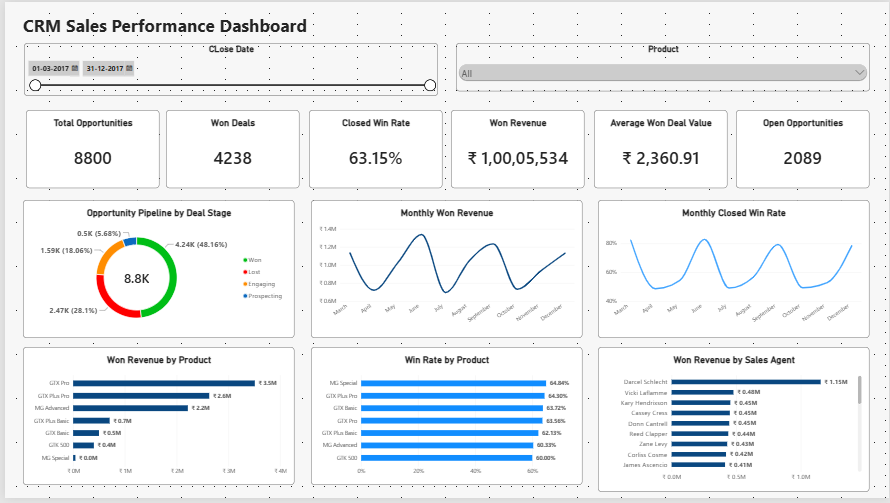

What the dashboard file says about the page in this screenshot:
{"tool":"powerbi","page":{"name":"Executive Overview","canvas":[1920,1080],"ordinal":0},"visuals":[{"type":"card","title":"Total Opportunities","fields":{"Values":["crm_sales sales_pipeline.Total Opportunities"]},"box":[44.7,235,290,170],"z":0},{"type":"card","title":"Won Deals","fields":{"Values":["CountNonNull(crm_sales sales_pipeline.opportunity_id)"]},"box":[350,235,290,170],"z":1000},{"type":"card","title":"Closed Win Rate","fields":{"Values":["crm_sales sales_pipeline.Closed Win Rate"]},"box":[660,235,290,170],"z":1001},{"type":"card","title":"Won Revenue","fields":{"Values":["crm_sales sales_pipeline.Won Revenue"]},"box":[970,235,290,170],"z":1002},{"type":"card","title":"Average Won Deal Value","fields":{"Values":["crm_sales sales_pipeline.Average Won Deal Value"]},"box":[1280,235,290,170],"z":1003},{"type":"donutChart","title":"Opportunity Pipeline by Deal Stage","fields":{"Category":["crm_sales sales_pipeline.deal_stage"],"Y":["CountNonNull(crm_sales sales_pipeline.opportunity_id)"]},"box":[40,430,590,300],"z":1005},{"type":"lineChart","title":"Monthly Won Revenue","fields":{"Category":["crm_sales sales_pipeline.close_date.Variation.Date Hierarchy.Month"],"Y":["Sum(crm_sales sales_pipeline.close_value)"]},"box":[665,430,590,300],"z":1006},{"type":"lineChart","title":"Monthly Closed Win Rate","fields":{"Category":["crm_sales sales_pipeline.close_date.Variation.Date Hierarchy.Month"],"Y":["crm_sales sales_pipeline.Closed Win Rate"]},"box":[1290,430,590,300],"z":1007},{"type":"clusteredBarChart","title":"Won Revenue by Product","fields":{"Category":["crm_sales products.product"],"Y":["crm_sales sales_pipeline.Won Revenue"]},"box":[40,750,590,300],"z":1008},{"type":"clusteredBarChart","title":"Win Rate by Product","fields":{"Category":["crm_sales products.product"],"Y":["crm_sales sales_pipeline.Product Win Rate"]},"box":[665,750,590,300],"z":1009},{"type":"clusteredBarChart","title":"Won Revenue by Sales Agent","fields":{"Category":["crm_sales sales_teams.sales_agent"],"Y":["crm_sales sales_pipeline.Won Revenue"]},"box":[1290,750,590,315],"z":1010},{"type":"slicer","title":"CLose Date","fields":{"Values":["crm_sales sales_pipeline.close_date"]},"box":[40.4,90,900,115],"z":1011},{"type":"slicer","title":"Product","fields":{"Values":["crm_sales products.product"]},"box":[980,90,900,105],"z":1012},{"type":"card","title":"Open Opportunities","fields":{"Values":["crm_sales sales_pipeline.Open Opportunities"]},"box":[1590,235,290,170],"z":1013},{"type":"textbox","box":[40,25,1839,50],"z":1014}]}

Visuals, with their boxes in screenshot pixels (x1, y1, x2, y2), scaled from the page's 1920x1080 canvas onto the 890x503 screenshot:
"Total Opportunities" card: (x1=21, y1=109, x2=155, y2=189)
"Won Deals" card: (x1=162, y1=109, x2=297, y2=189)
"Closed Win Rate" card: (x1=306, y1=109, x2=440, y2=189)
"Won Revenue" card: (x1=450, y1=109, x2=584, y2=189)
"Average Won Deal Value" card: (x1=593, y1=109, x2=728, y2=189)
"Opportunity Pipeline by Deal Stage" donutChart: (x1=19, y1=200, x2=292, y2=340)
"Monthly Won Revenue" lineChart: (x1=308, y1=200, x2=582, y2=340)
"Monthly Closed Win Rate" lineChart: (x1=598, y1=200, x2=871, y2=340)
"Won Revenue by Product" clusteredBarChart: (x1=19, y1=349, x2=292, y2=489)
"Win Rate by Product" clusteredBarChart: (x1=308, y1=349, x2=582, y2=489)
"Won Revenue by Sales Agent" clusteredBarChart: (x1=598, y1=349, x2=871, y2=496)
"CLose Date" slicer: (x1=19, y1=42, x2=436, y2=95)
"Product" slicer: (x1=454, y1=42, x2=871, y2=91)
"Open Opportunities" card: (x1=737, y1=109, x2=871, y2=189)
textbox: (x1=19, y1=12, x2=871, y2=35)
